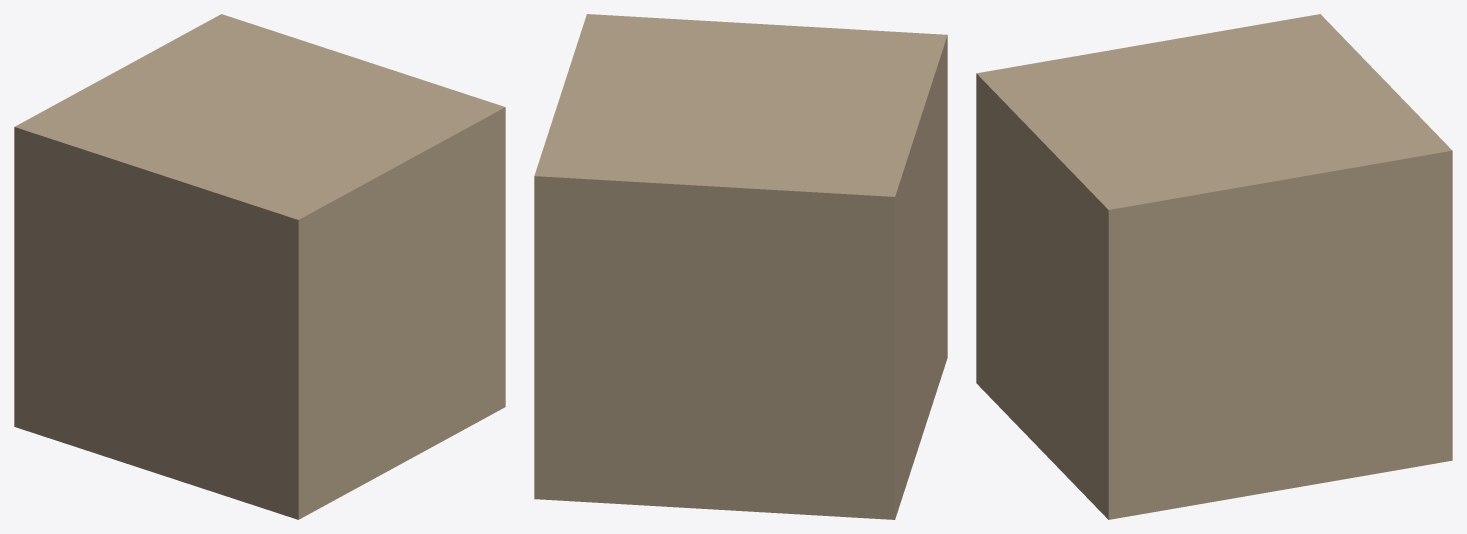
Rendered from bld_106415388.dae.
3 renders of one model, left to right at view 1: azimuth 30°, elevation 25°; view 2: azimuth 150°, elevation 25°; view 3: azimuth 270°, elevation 25°, orthographic. The views are drawn at different scales.
Visible parts, largest first — view 1: bld_106415388; view 2: bld_106415388; view 3: bld_106415388.
Boxes of the visible parts, box(x1,y1,x2,y2) form: bld_106415388: box(14, 14, 505, 519); bld_106415388: box(534, 14, 947, 519); bld_106415388: box(976, 14, 1452, 519).
Bounding box in the file's own units: 10.85 × 11.14 × 8.
